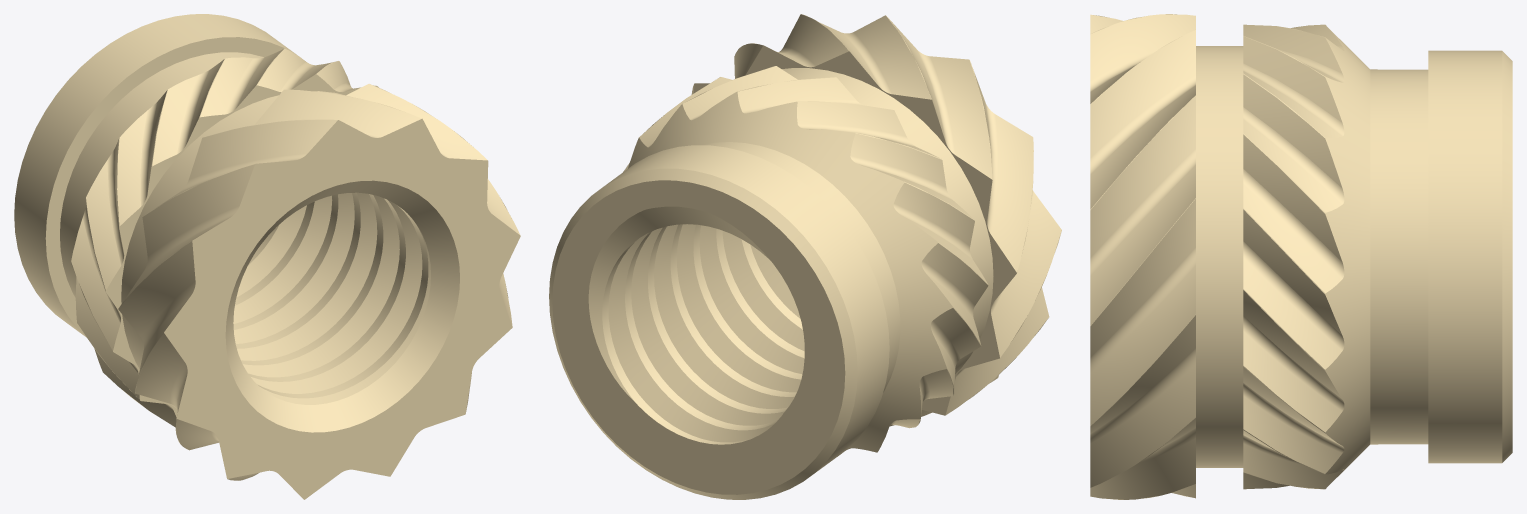
The model's file is ruthex_RX_M3_5_7_1__K_rper1.gltf.
The picture shows the model from 3 angles, left to right: view 1: azimuth 30°, elevation 25°; view 2: azimuth 150°, elevation 25°; view 3: azimuth 270°, elevation 25°; orthographic projection. The views are drawn at different scales.
Parts seen in each view (by area): view 1: mesh1863, mesh1859, mesh1853, mesh1862, mesh1857, mesh1855, mesh1854, mesh1888, mesh1917, mesh1891, mesh1884, mesh1919 (+22 smaller); view 2: mesh1856, mesh1861, mesh1918, mesh1853, mesh1857, mesh1852, mesh1917, mesh1916, mesh1855, mesh1914, mesh1898, mesh1893 (+21 smaller); view 3: mesh1853, mesh1855, mesh1917, mesh1918, mesh1907, mesh1879, mesh1886, mesh1877, mesh1905, mesh1852, mesh1908, mesh1889 (+28 smaller).
Boxes of the visible parts, x1,y1,x2,y2 form: mesh1863: (164, 118, 520, 499); mesh1859: (233, 192, 430, 404); mesh1853: (14, 14, 295, 337); mesh1862: (225, 180, 459, 432); mesh1857: (233, 192, 428, 398); mesh1855: (60, 52, 263, 297); mesh1854: (45, 37, 305, 335); mesh1888: (188, 119, 337, 179); mesh1917: (121, 91, 345, 408); mesh1891: (142, 164, 254, 256); mesh1884: (255, 89, 421, 136); mesh1919: (105, 74, 360, 416); mesh1856: (552, 180, 845, 494); mesh1861: (588, 206, 804, 442); mesh1918: (628, 91, 952, 456); mesh1853: (605, 145, 889, 476); mesh1857: (602, 224, 804, 444); mesh1852: (549, 168, 857, 499); mesh1917: (782, 68, 993, 373); mesh1916: (694, 45, 1016, 415); mesh1855: (701, 142, 900, 392); mesh1914: (991, 114, 1033, 272); mesh1898: (991, 193, 1061, 357); mesh1893: (930, 56, 992, 179); mesh1853: (1428, 50, 1502, 463); mesh1855: (1370, 69, 1428, 444); mesh1917: (1196, 46, 1243, 467); mesh1918: (1325, 25, 1370, 488); mesh1907: (1090, 266, 1195, 425); mesh1879: (1090, 96, 1195, 257); mesh1886: (1090, 30, 1195, 157); mesh1877: (1090, 364, 1195, 487); mesh1905: (1090, 165, 1195, 325); mesh1852: (1502, 51, 1512, 462); mesh1908: (1090, 199, 1195, 357); mesh1889: (1090, 14, 1195, 80).
Bounding box in the file's own units: 0.0046 × 0.0046 × 0.004.
